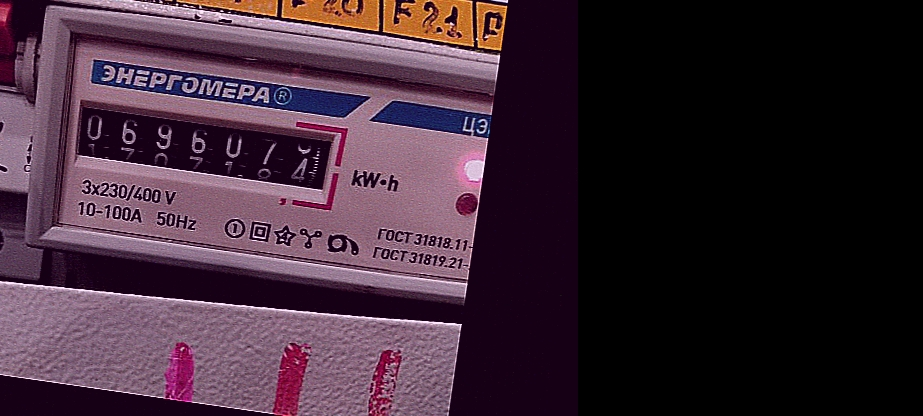0: (81, 111, 106, 143), (222, 130, 245, 161)
4: (286, 154, 309, 186)
6: (186, 125, 210, 158), (117, 116, 140, 147)
7: (256, 134, 278, 167)
9: (151, 121, 175, 152)
screen: (58, 82, 351, 214)
